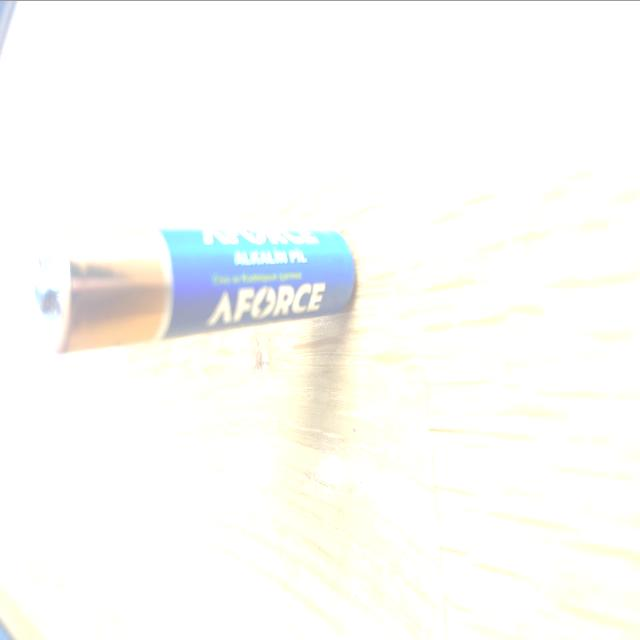AAA: (31, 220, 361, 362)
